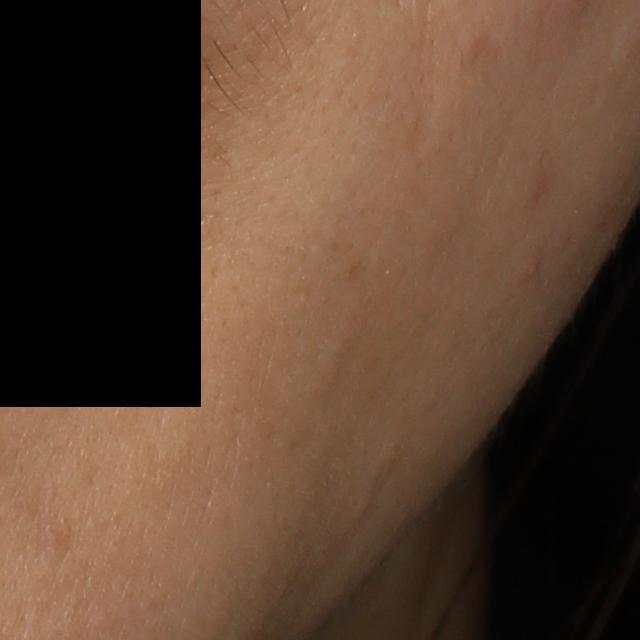papule: (522, 259, 541, 280)
